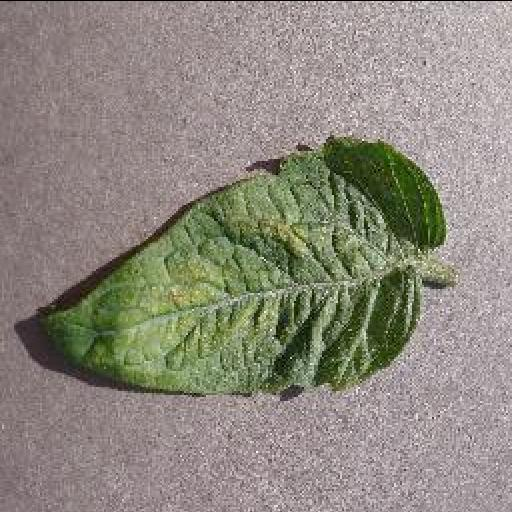disease_tomato: (36, 138, 448, 398)
